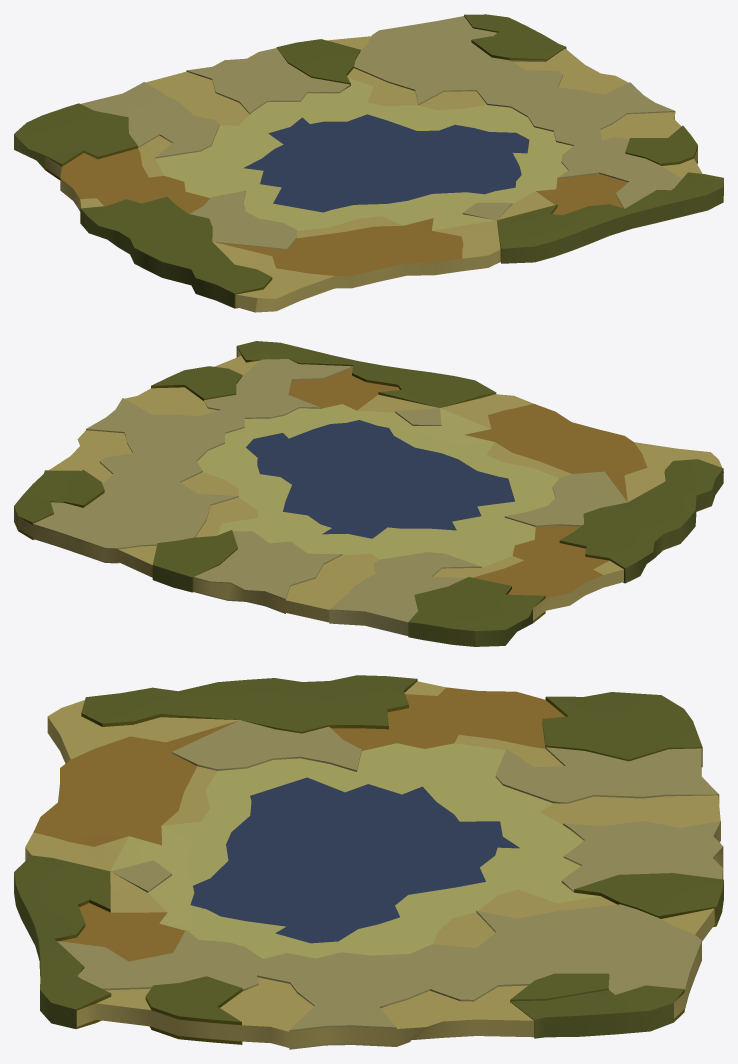
The model's file is Savannah.fbx.
3 views of the same model, one above another, from view 1: azimuth 30°, elevation 25°; view 2: azimuth 150°, elevation 25°; view 3: azimuth 270°, elevation 25° (orthographic). The views are drawn at different scales.
Parts seen in each view (by area): view 1: pCube33; view 2: pCube33; view 3: pCube33.
Part boxes in pixels (<box>): pCube33: <box>14,14,723,312</box>; pCube33: <box>14,341,723,646</box>; pCube33: <box>14,675,723,1049</box>.
Size of the model in its own units: 46.26 by 1.6 by 39.17.
